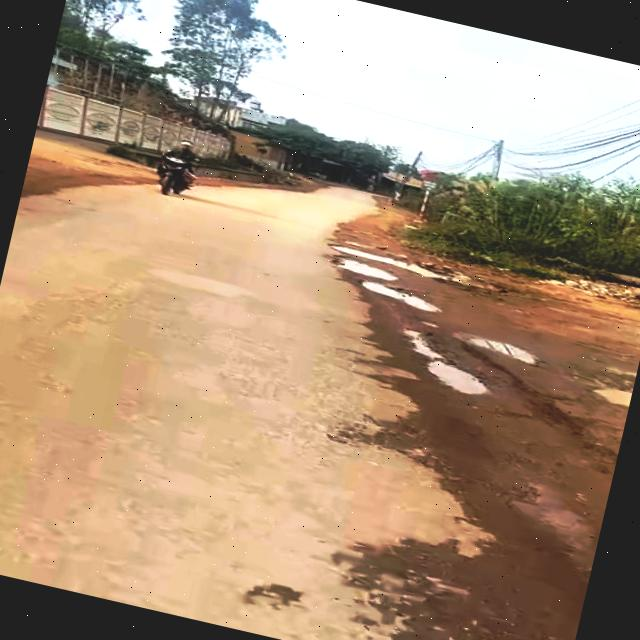pothole: (380, 317, 501, 403), (324, 237, 441, 281), (350, 274, 453, 321), (328, 248, 398, 284)
